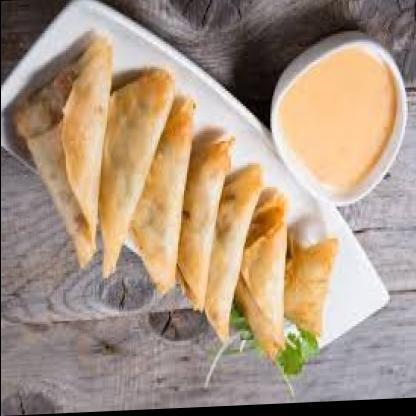samosa: (14, 37, 112, 270), (97, 70, 173, 279), (127, 97, 194, 293), (205, 167, 262, 343), (175, 139, 233, 311), (233, 193, 287, 365), (284, 241, 337, 341)
